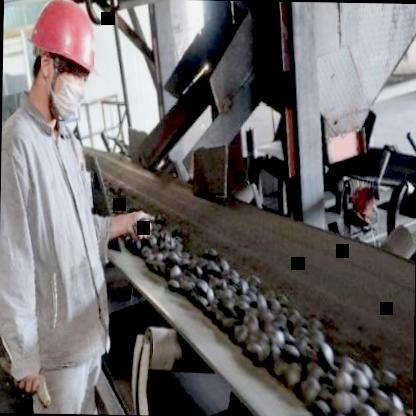helmet: (21, 0, 104, 121)
